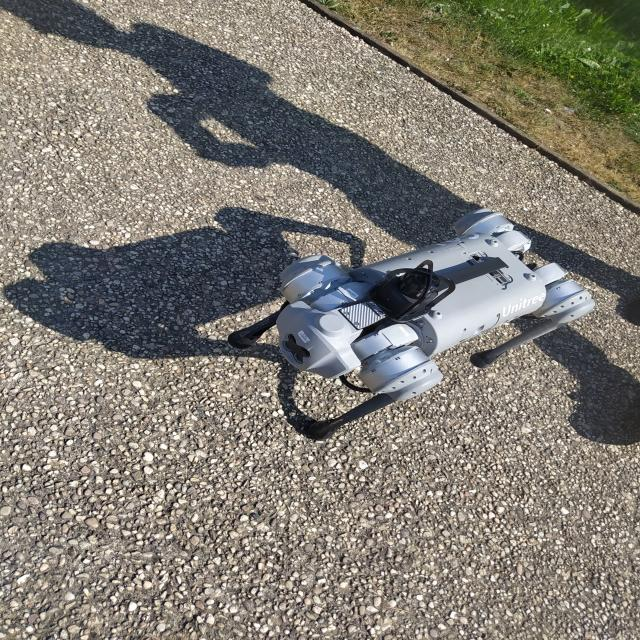unitree-go1-robot: (210, 198, 596, 449)
